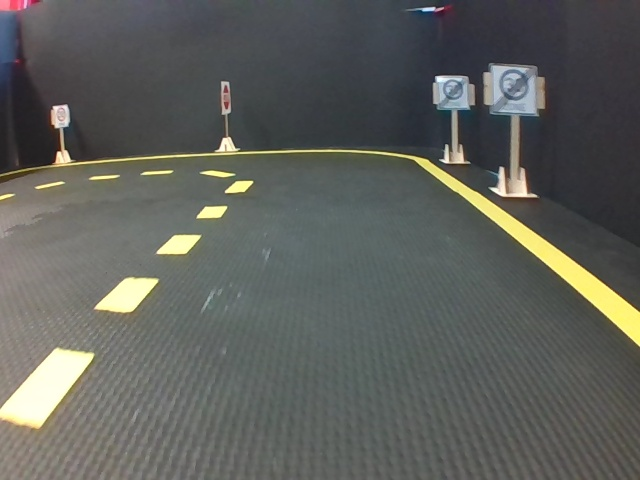30: (51, 105, 69, 126)
no30: (491, 63, 536, 115), (436, 75, 469, 108)
stop: (222, 81, 230, 113)
